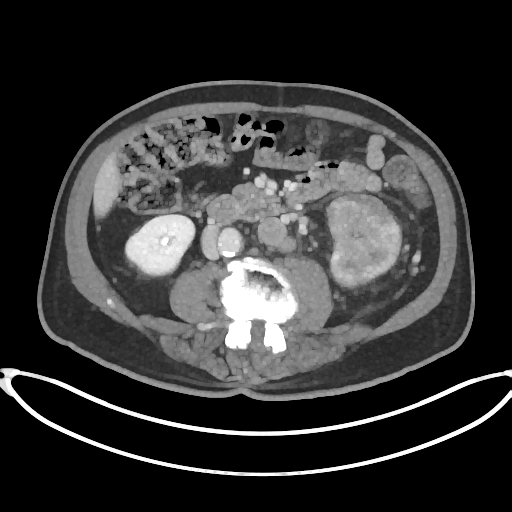Lesion: (327, 192, 402, 289)
